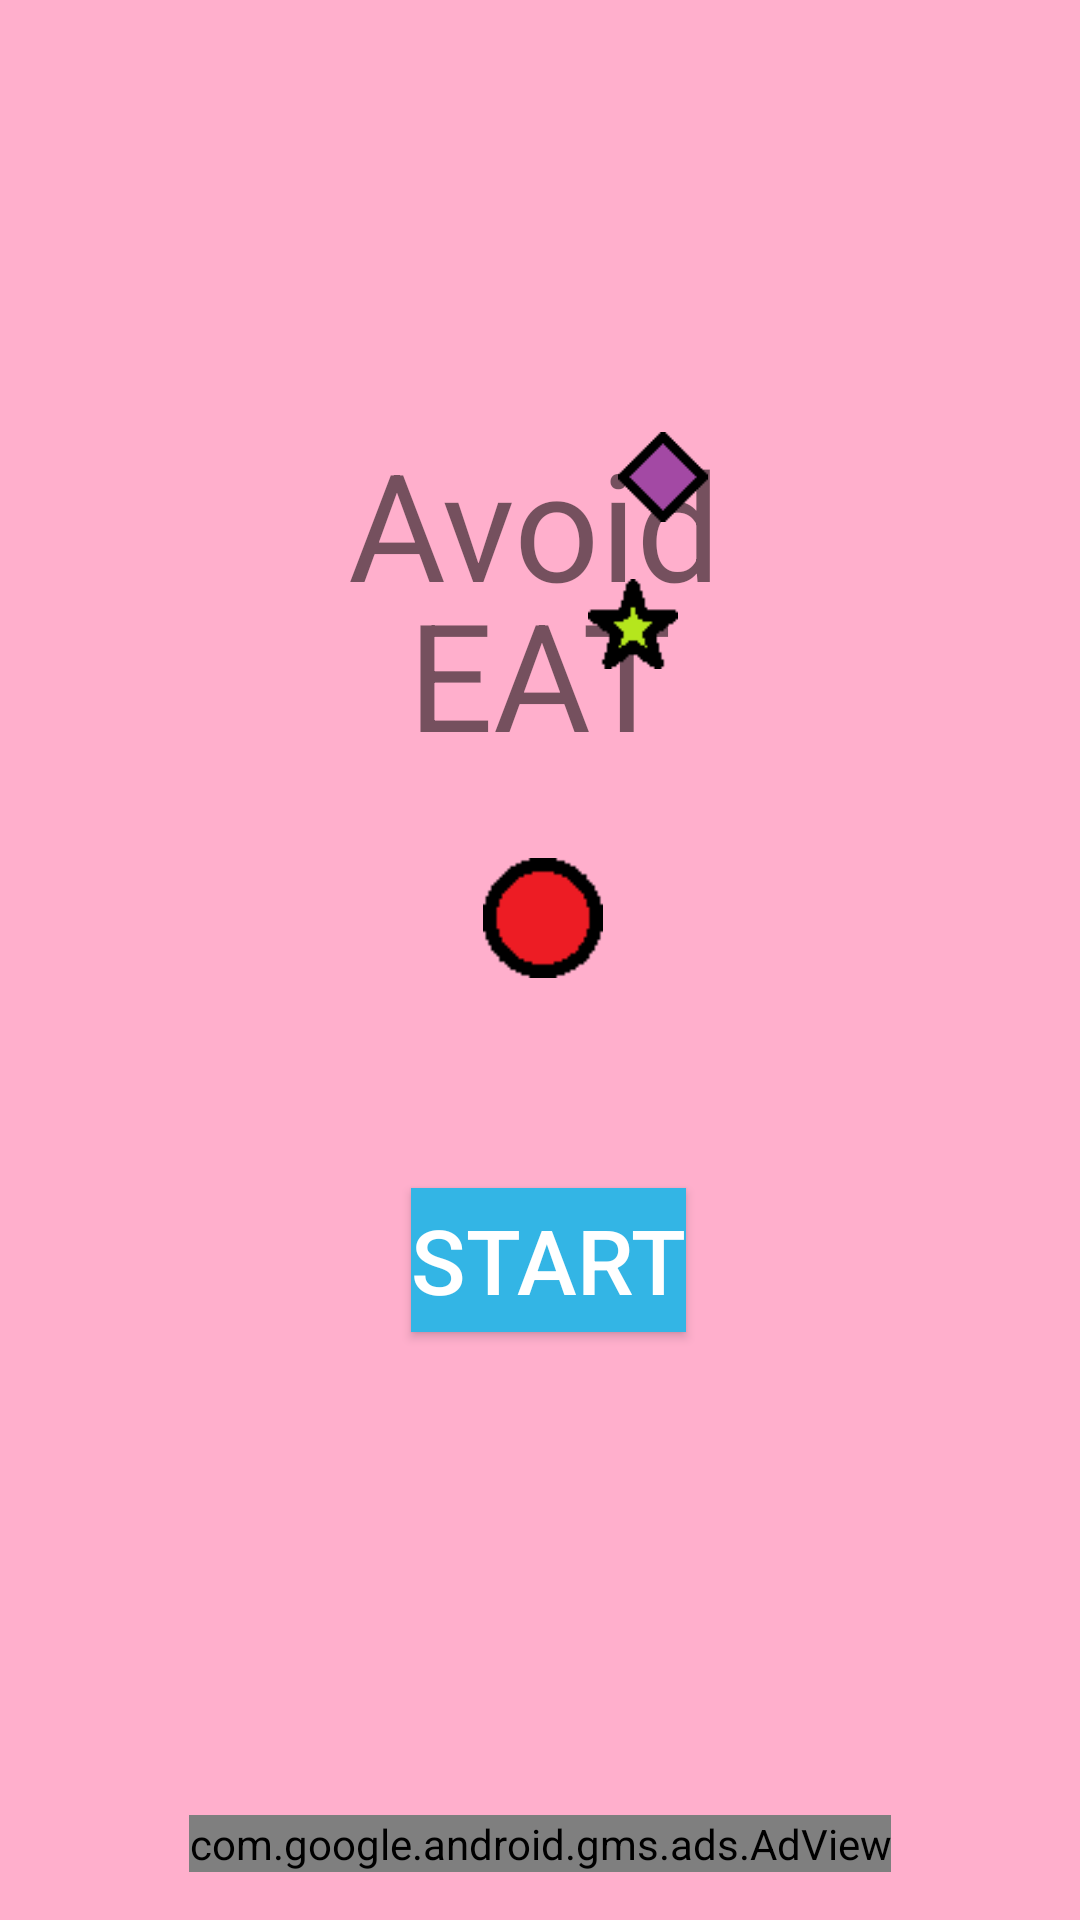

Icon bounding boxes for this 1080px×1920px phone screenshot, format (x1, y1, x2, y2):
star: (588, 579, 678, 669)
